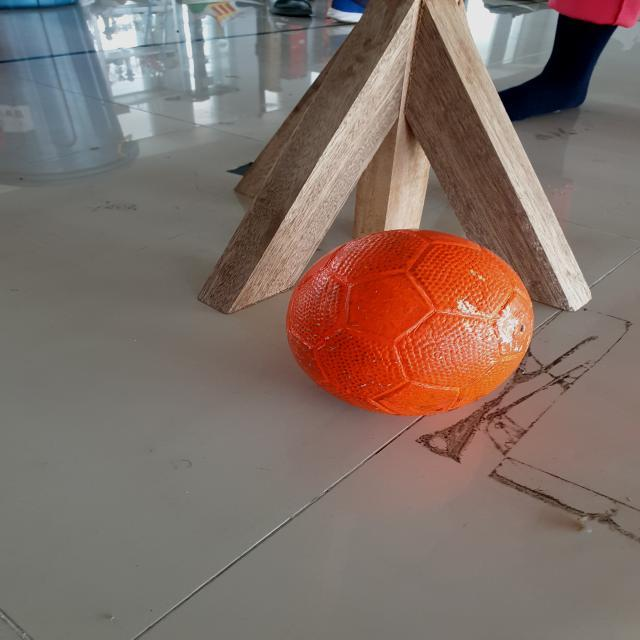bola: (276, 218, 546, 428)
